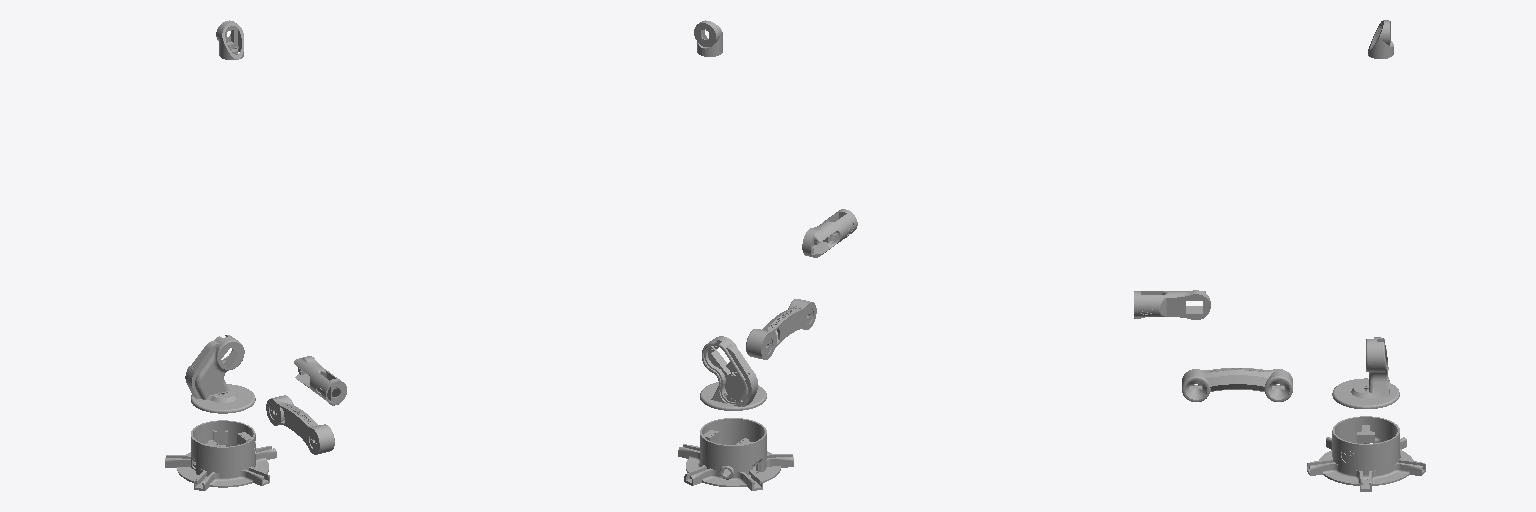
The robot description file, URDF, robot "cobot":
<?xml version="1.0" encoding="utf-8"?>
<robot name="cobot">

  <material name="silver">
    <color rgba="0.7 0.7 0.7 1.0"/>
  </material>
  
  <!-- base_link -->
  <link name="base_link">
    <inertial>
      <origin
        xyz="0.0010569805350138673 0.0007297344522584362 0.01829217339489528"
        rpy="0 0 0" />
      <mass
        value="0.9757252027596308" />
      <inertia
        ixx="0.001614"
        iyy="0.0017"
        izz="0.002741"
        ixy="-1.4e-05"
        iyz="-7e-06"
        ixz="-0.0" />
    </inertial>
  
    <visual>
      <origin
        xyz="0 0 0"
        rpy="0 0 0" />
      <geometry>
        <mesh
          filename="package://cobot_description/meshes/base_link.stl"
          scale="0.001 0.001 0.001" />
      </geometry>
      <material
        name="silver" />
    </visual>
  
    <collision>
      <origin
        xyz="0 0 0"
        rpy="0 0 0" />
      <geometry>
        <mesh
          filename="package://cobot_description/meshes/base_link.stl"
          scale="0.001 0.001 0.001" />
      </geometry>
    </collision>
  </link>
  
  <!-- link1 -->
  <link name="link1">
    <inertial>
      <origin
        xyz="-0.003818008823720768 0.008441513827613 0.03204494242786362"
        rpy="0 0 0" />
      <mass
        value="0.8487763548317978" />
      <inertia
        ixx="0.000968"
        iyy="0.001205"
        izz="0.000724"
        ixy="3.4e-05"
        iyz="-0.000103"
        ixz="-7.7e-05" />
    </inertial>
    
    <visual>
      <origin
        xyz="0 0 0"
        rpy="0 0 0" />
      <geometry>
        <mesh
          filename="package://cobot_description/meshes/link1.stl"
          scale="0.001 0.001 0.001" />
      </geometry>
      <material
        name="silver" />
    </visual>
  
    <collision>
      <origin
        xyz="0 0 0"
        rpy="0 0 0" />
      <geometry>
        <mesh
          filename="package://cobot_description/meshes/link1.stl"
          scale="0.001 0.001 0.001" />
      </geometry>
    </collision>
  </link>
  
  <!-- link2 -->
  <link name="link2">
    <inertial>
      <origin
        xyz="0.06020229512696279 -0.002214238815772403 0.011894670876730499"
        rpy="0 0 0" />
      <mass
        value="0.6612420873424198" />
      <inertia
        ixx="0.000127"
        iyy="0.001921"
        izz="0.001969"
        ixy="-2e-06"
        iyz="2e-06"
        ixz="1e-06" />
    </inertial>
  
    <visual>
      <origin
        xyz="0 0 0"
        rpy="0 0 0" />
      <geometry>
        <mesh
          filename="package://cobot_description/meshes/link2.stl"
          scale="0.001 0.001 0.001" />
      </geometry>
      <material
        name="silver" />
    </visual>
  
    <collision>
      <origin
        xyz="0 0 0"
        rpy="0 0 0" />
      <geometry>
        <mesh
          filename="package://cobot_description/meshes/link2.stl"
          scale="0.001 0.001 0.001" />
      </geometry>
    </collision>
  </link>
  
  <!-- link3 -->
  <link name="link3">
    <inertial>
      <origin
        xyz="0.0409322245782118 -0.0006937756215695916 -0.008652145666434768"
        rpy="0 0 0" />
      <mass
        value="0.4123818105357045" />
      <inertia
        ixx="8.7e-05"
        iyy="0.000447"
        izz="0.000468"
        ixy="-7e-06"
        iyz="-2e-06"
        ixz="-5e-06" />
    </inertial>
  
    <visual>
      <origin
        xyz="0 0 0"
        rpy="0 0 0" />
      <geometry>
        <mesh
          filename="package://cobot_description/meshes/link3.stl"
          scale="0.001 0.001 0.001" />
      </geometry>
      <material name="silver" />
    </visual>
  
    <collision>
      <origin
        xyz="0 0 0"
        rpy="0 0 0" />
      <geometry>
        <mesh
          filename="package://cobot_description/meshes/link3.stl"
          scale="0.001 0.001 0.001" />
      </geometry>
    </collision>
  </link>
  
  <!-- link4 -->
  <link name="link4">
    <inertial>
      <origin
        xyz="0.0002076619932401616 -0.005563955264345595 0.02139744743586941"
        rpy="0 0 0" />
      <mass
        value="0.1688382109185934" />
      <inertia
        ixx="4.4e-05"
        iyy="5.8e-05"
        izz="3.2e-05"
        ixy="0.0"
        iyz="4e-06"
        ixz="-0.0" />
    </inertial>
  
    <visual>
      <origin
        xyz="0 0 0"
        rpy="0 0 0" />
      <geometry>
        <mesh
          filename="package://cobot_description/meshes/link4.stl"
          scale="0.001 0.001 0.001" />
      </geometry>
      <material
        name="silver" />
    </visual>
  
    <collision>
      <origin
        xyz="0 0 0"
        rpy="0 0 0" />
      <geometry>
        <mesh
          filename="package://cobot_description/meshes/link4.stl"
          scale="0.001 0.001 0.001" />
      </geometry>
    </collision>
  </link>
  
  <!--
  
  <link name="link5">
    <inertial>
      <origin
        xyz="0.023252917458090605 0.0009180511930666074 -0.0026770648599710144"
        rpy="1.5708 0 1.5708" />
      <mass
        value="0.17229950863980814" />
      <inertia
        ixx="9.6e-05"
        iyy="8.8e-05"
        izz="2.6e-05"
        ixy="0.0"
        iyz="1.8e-05"
        ixz="-3e-06" />
    </inertial>
  
    <visual>
      <origin
        xyz="0 0 0"
        rpy="0 0 0" />
      <geometry>
        <mesh
          filename="package://cobot_description/meshes/link5.stl"
          scale="0.001 0.001 0.001" />
      </geometry>
      <material
        name="silver"/>
    </visual>
  
    <collision>
      <origin
        xyz="0 0 0"
        rpy="0 0 0" />
      <geometry>
        <mesh
          filename="package://cobot_description/meshes/link5.stl"
          scale="0.001 0.001 0.001" />
      </geometry>
    </collision>
  </link>
  
  <link name="in_right_grip">
    <inertial>
      <origin
        xyz="0.014644586508523127 -0.00432633092858755 0.0006351808581316672"
        rpy="-0.17453 -1.5708 0" />
      <mass
        value="0.020498186106830463" />
      <inertia
        ixx="3e-06"
        iyy="3e-06"
        izz="1e-06"
        ixy="0.0"
        iyz="-1e-06"
        ixz="-0.0"/>
    </inertial>
  
    <visual>
      <origin
        xyz="0 0 0"
        rpy="0 0 0" />
      <geometry>
        <mesh
          filename="package://cobot_description/meshes/in_right_grip.stl"
          scale="0.001 0.001 0.001" />
      </geometry>
      <material
        name="silver" />
    </visual>
  
    <collision>
      <origin
        xyz="0 0 0"
        rpy="0 0 0" />
      <geometry>
        <mesh
          filename="package://cobot_description/meshes/in_right_grip.stl"
          scale="0.001 0.001 0.001" />
      </geometry>
    </collision>
  </link>
  
  <link name="in_left_grip">
    <inertial>
      <origin
        xyz="-0.0007181665729370061 -0.004855388988816466 0.014473452058062775"
        rpy="0 0 0" />
      <mass
        value="0.020498186106830463" />
      <inertia
        ixx="3e-06"
        iyy="3e-06"
        izz="1e-06"
        ixy="0.0"
        iyz="1e-06"
        ixz="0.0" />
    </inertial>
  
    <visual>
      <origin
        xyz="-0.015511 -0.01074 -0.428335"
        rpy="0 0 0" />
      <geometry>
        <mesh
          filename="package://cobot_description/meshes/in_left_grip.stl"
          scale="0.001 0.001 0.001" />
      </geometry>
      <material
        name="silver" />
    </visual>
  
    <collision>
      <origin
        xyz="-0.015511 -0.01074 -0.428335"
        rpy="0 0 0" />
      <geometry>
        <mesh
          filename="package://cobot_description/meshes/in_left_grip.stl"
          scale="0.001 0.001 0.001" />
      </geometry>
    </collision>
  </link>
  
  <link name="out_right_grip">
    <inertial>
      <origin
        xyz="0.001718746609355823 0.0060517958020296775 0.009753075365702468"
        rpy="0 0 0" />
      <mass 
        value="0.03206774948119643" />
      <inertia
        ixx="7e-06"
        iyy="5e-06"
        izz="2e-06"
        ixy="0.0"
        iyz="-2e-06"
        ixz="1e-06" />
    </inertial>
  
    <visual>
      <origin
        xyz="-0.016434 -0.027552 -0.407598"
        rpy="0 0 0" />
      <geometry>
        <mesh
          filename="package://cobot_description/meshes/out_right_grip.stl"
          scale="0.001 0.001 0.001" />
      </geometry>
      <material
        name="silver" />
    </visual>
  
    <collision>
      <origin
        xyz="-0.016434 -0.027552 -0.407598"
        rpy="0 0 0" />
      <geometry>
        <mesh
          filename="package://cobot_description/meshes/out_right_grip.stl"
          scale="0.001 0.001 0.001" />
      </geometry>
    </collision>
  </link>
  
  <link name="out_left_grip">
    <inertial>
      <origin
        xyz="0.0016870125804937762 -0.006851070724163324 0.011071981124217367"
        rpy="0 0 0" />
      <mass
        value="0.02733538421745774" />
      <inertia
        ixx="6e-06"
        iyy="5e-06"
        izz="2e-06"
        ixy="-0.0"
        iyz="2e-06"
        ixz="1e-06" />
    </inertial>
  
    <visual>
      <origin
        xyz="-0.016251 -0.00746 -0.407484"
        rpy="0 0 0" />
      <geometry>
        <mesh
          filename="package://cobot_description/meshes/out_left_grip.stl"
          scale="0.001 0.001 0.001" />
      </geometry>
      <material
        name="silver" />
    </visual>
  
    <collision>
      <origin
        xyz="-0.016251 -0.00746 -0.407484"
        rpy="0 0 0" />
      <geometry>
        <mesh
          filename="package://cobot_description/meshes/out_left_grip.stl"
          scale="0.001 0.001 0.001" />
      </geometry>
    </collision>
  </link>
  
  <link name="left_gripper">
    <inertial>
      <origin
        xyz="-0.0007973268186895303 0.006294598773784492 0.029093411847490813"
        rpy="0 0 0" />
      <mass
        value="0.0574367398539114" />
      <inertia
        ixx="2e-05"
        iyy="1.9e-05"
        izz="3e-06"
        ixy="0.0"
        iyz="-4e-06"
        ixz="0.0" />
    </inertial>
  
    <visual>
      <origin
        xyz="-0.015316 0.007935 -0.438489"
        rpy="0 0 0" />
      <geometry>
        <mesh
          filename="package://cobot_description/meshes/left_gripper.stl"
          scale="0.001 0.001 0.001" />
      </geometry>
      <material
        name="silver" />
    </visual>
  
    <collision>
      <origin
        xyz="-0.015316 0.007935 -0.438489"
        rpy="0 0 0" />
      <geometry>
        <mesh
          filename="package://cobot_description/meshes/left_gripper.stl"
          scale="0.001 0.001 0.001" />
      </geometry>
    </collision>
  </link>
  
  <link name="right_gripper">
    <inertial>
      <origin
        xyz="-0.0006522798682768623 -0.006645060979379405 0.02916261432592454"
        rpy="0 0 0" />
      <mass
        value="0.05715084388035935" />
      <inertia
        ixx="1.9e-05"
        iyy="1.9e-05"
        izz="3e-06"
        ixy="-0.0"
        iyz="4e-06"
        ixz="0.0" />
    </inertial>
  
    <visual>
      <origin
        xyz="-0.015503 -0.042612 -0.438775"
        rpy="0 0 0" />
      <geometry>
        <mesh
          filename="package://cobot_description/meshes/right_gripper.stl"
          scale="0.001 0.001 0.001" />
      </geometry>
      <material
        name="silver" />
    </visual>
  
    <collision>
      <origin
        xyz="-0.015503 -0.042612 -0.438775"
        rpy="0 0 0" />
      <geometry>
        <mesh
          filename="package://cobot_description/meshes/right_gripper.stl"
          scale="0.001 0.001 0.001" />
      </geometry>
    </collision>
  </link>
  
  -->
  
  <joint name="joint_base_link_to_link1" type="revolute">
    <origin
      xyz="0 0 0.05675"
      rpy="0 0 0" />
    <parent
      link="base_link" />
    <child
      link="link1" />
    <axis
      xyz="0 0 1" />
    <limit
      effort="1000.0" lower="-1.5708" upper="1.5708" velocity="0.5" />
  </joint>
  
  <joint name="joint_link1_to_link2" type="revolute">
    <origin
      xyz="0.01392 0 0.070276"
      rpy="1.5708 -1.5708 0" />
    <parent
      link="link1" />
    <child
      link="link2" />
    <axis
      xyz="0 0 1" />
    <limit
      effort="1000.0" lower="-1.5708" upper="1.5708" velocity="0.5" />
  </joint>
  
  <joint name="joint_link2_to_link3" type="revolute">
    <origin
      xyz="0.12 0 0"
      rpy="0 0 0"/>
    <parent
      link="link2"/>
    <child
      link="link3"/>
    <axis
      xyz="0 0 -1"/>
    <limit
      effort="1000.0" lower="-1.5708" upper="1.5708" velocity="0.5" />
  </joint>
  
  <joint name="joint_link3_to_link4" type="fixed">
    <origin
      xyz="0.08975 0 -0.010544"
      rpy="-1.5708 0 -1.5708" />
    <parent
      link="link3" />
    <child
      link="link4" />
    <axis xyz="0 0 1" />
  </joint>
  
  <!--
  
  <joint name="joint_link4_to_link5" type="revolute">
    <origin
      xyz="0 -0.0142 0.0325"
      rpy="1.5708 -1.5708 0" />
    <parent
      link="link4" />
    <child
      link="link5" />
    <axis
      xyz="0 0 1" />
    <limit
      effort="1000.0" lower="-1.5708" upper="1.5708" velocity="0.5" />
  </joint>
  
  <joint name="joint_link5_to_in_right_grip" type="continuous">
    <origin
      xyz="0.059134 -0.002086 -0.000687"
      rpy="-1.5708 -0.17453 0" />
    <parent
      link="link5" />
    <child
      link="in_right_grip" />
    <axis xyz="0 0 1" />
  </joint>
  
  <joint name="joint_link5_to_in_left_grip" type="continuous">
    <origin xyz="0.001964 -0.013997 0.059059" rpy="0 0 0"/>
    <parent link="link5"/>
    <child link="in_left_grip"/>
    <axis xyz="-0.999947 0.009166 -0.004789"/>
  </joint>
  
  <joint name="joint_link5_to_out_right_grip" type="continuous">
    <origin xyz="0.002887 0.002815 0.038322" rpy="0 0 0"/>
    <parent link="link5"/>
    <child link="out_right_grip"/>
    <axis xyz="0.999947 -0.009166 0.004789"/>
  </joint>
  
  <joint name="joint_link5_to_out_left_grip" type="continuous">
    <origin xyz="0.002704 -0.017277 0.038208" rpy="0 0 0"/>
    <parent link="link5"/>
    <child link="out_left_grip"/>
    <axis xyz="0.999947 -0.009166 0.004789"/>
  </joint>
  
  <joint name="joint_out_left_grip_to_left_gripper" type="continuous">
    <origin xyz="-0.000935 -0.015395 0.031005" rpy="0 0 0"/>
    <parent link="out_left_grip"/>
    <child link="left_gripper"/>
    <axis xyz="-0.999947 0.009166 -0.004789"/>
  </joint>
  
  <joint name="joint_out_right_grip_to_right_gripper" type="continuous">
    <origin xyz="-0.000931 0.01506 0.031177" rpy="0 0 0"/>
    <parent link="out_right_grip"/>
    <child link="right_gripper"/>
    <axis xyz="-0.999947 0.009166 -0.004789"/>
  </joint>
  
  -->
</robot>

--- What the picture shows (computed from the rendered views, not written in the file) ---
3 views of the same robot in one strip: view 1: azimuth 30°, elevation 25°; view 2: azimuth 150°, elevation 25°; view 3: azimuth 270°, elevation 25° (orthographic).
Robot: cobot — 5 links, 4 joints (3 revolute, 1 fixed); root link base_link; default pose: every joint at zero.
Links seen in each view (by area): view 1: base_link, link1, link2, link3, link4; view 2: base_link, link1, link2, link3, link4; view 3: base_link, link2, link1, link3, link4.
Link boxes in pixels (box(x1,y1,x2,y2)): base_link: box(165, 420, 276, 490); link1: box(185, 335, 255, 413); link2: box(266, 395, 334, 454); link3: box(294, 356, 346, 405); link4: box(216, 20, 243, 59); base_link: box(678, 418, 793, 490); link1: box(700, 336, 766, 410); link2: box(746, 299, 816, 359); link3: box(802, 209, 857, 257); link4: box(694, 20, 722, 56); base_link: box(1307, 416, 1425, 491); link2: box(1182, 368, 1292, 401); link1: box(1332, 337, 1399, 408); link3: box(1134, 290, 1210, 319); link4: box(1368, 20, 1393, 58).
Size in the robot's own frame: 0.1646 by 0.4232 by 0.7251 metres.
Meshes: 5 distinct files referenced, 5 mesh visuals loaded (5 binary STL).